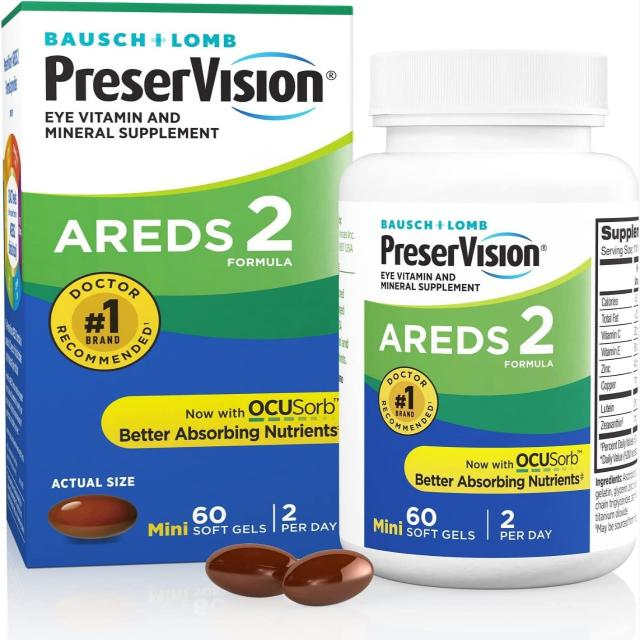food-supliment: (11, 10, 360, 565), (366, 55, 593, 577)
